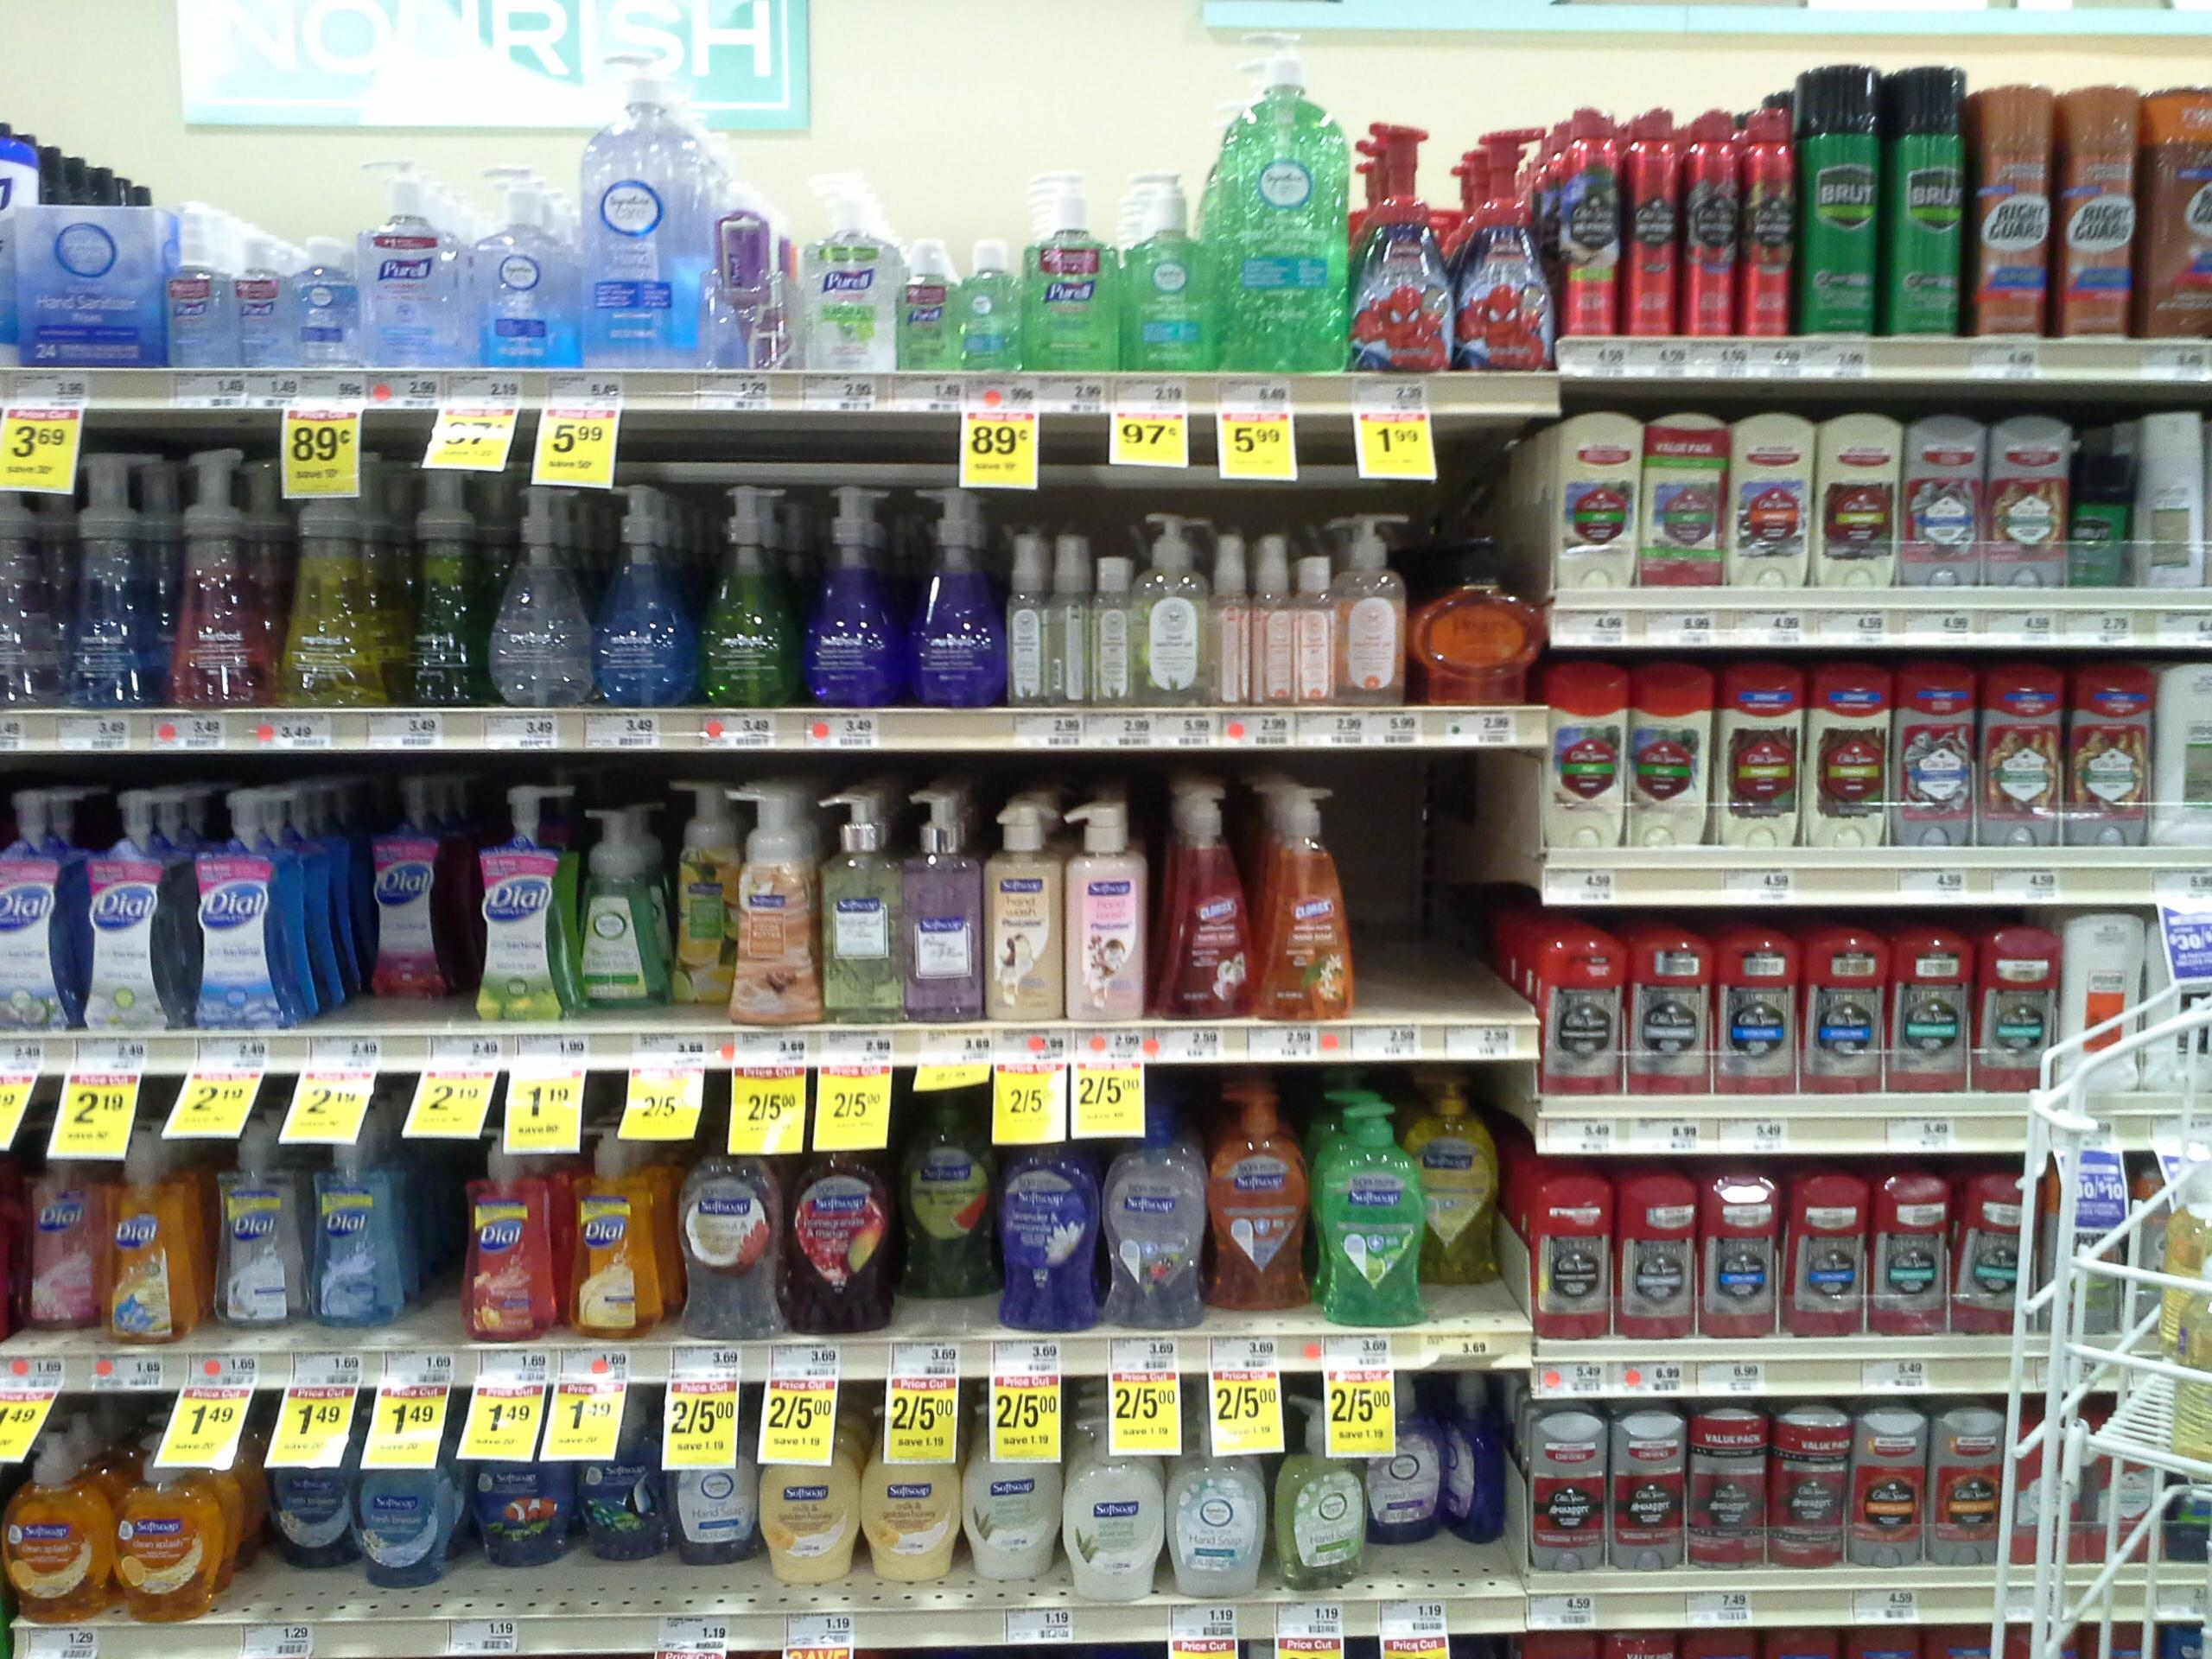empty: (1371, 798, 1501, 1014)
